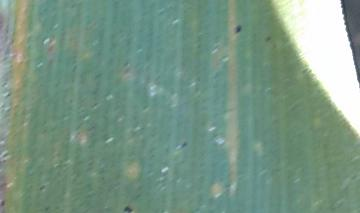tarspot: (233, 23, 243, 34), (123, 204, 133, 213), (180, 139, 189, 149), (38, 183, 47, 192), (1, 198, 7, 208), (264, 35, 272, 41)
